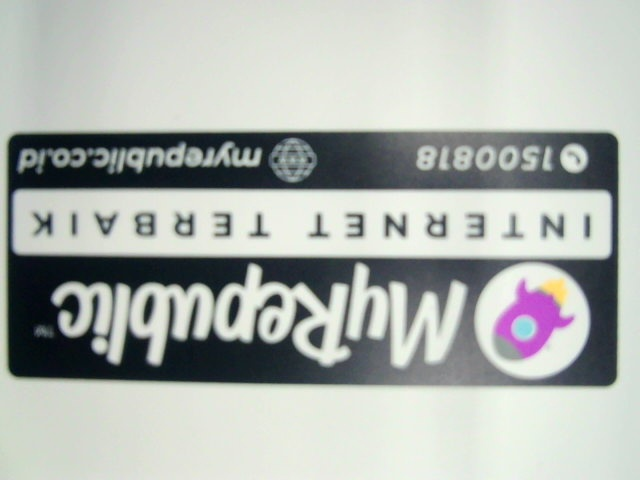BD_MyRepublic: (4, 128, 622, 386)
